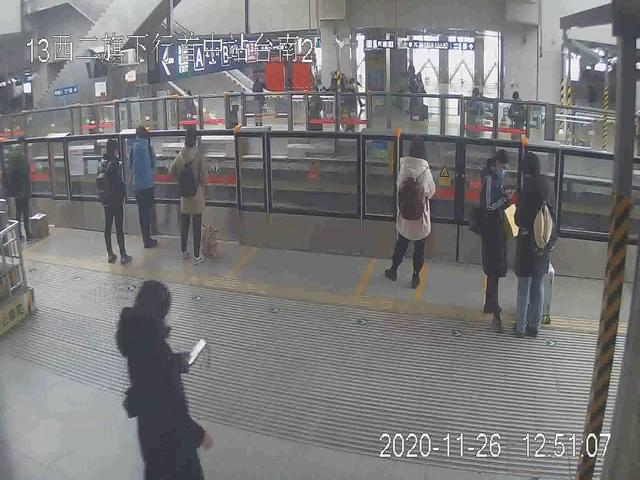person: (111, 279, 209, 480), (513, 153, 558, 338), (471, 148, 512, 335), (168, 127, 214, 269), (388, 137, 424, 289), (126, 123, 169, 245), (95, 137, 130, 262), (1, 136, 35, 234)
